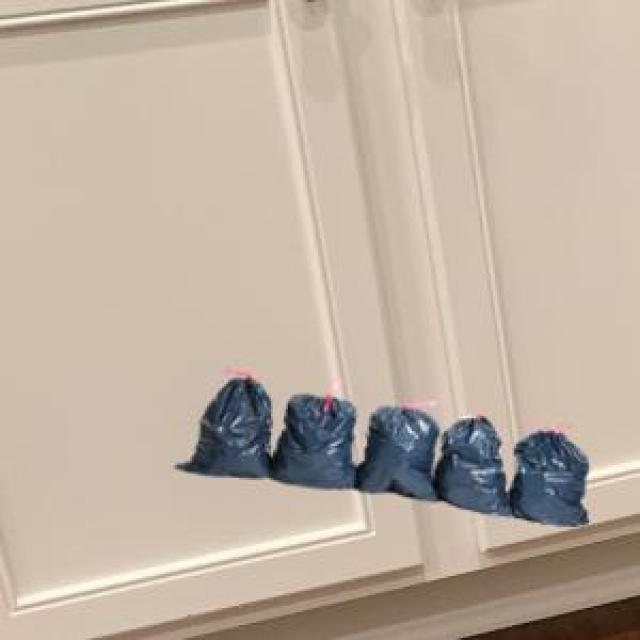miscellaneous trash: (173, 369, 585, 523)
